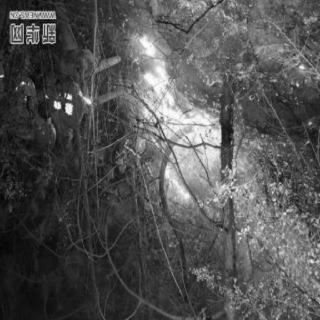Fire: (137, 27, 225, 210)
other: (4, 18, 117, 156)
